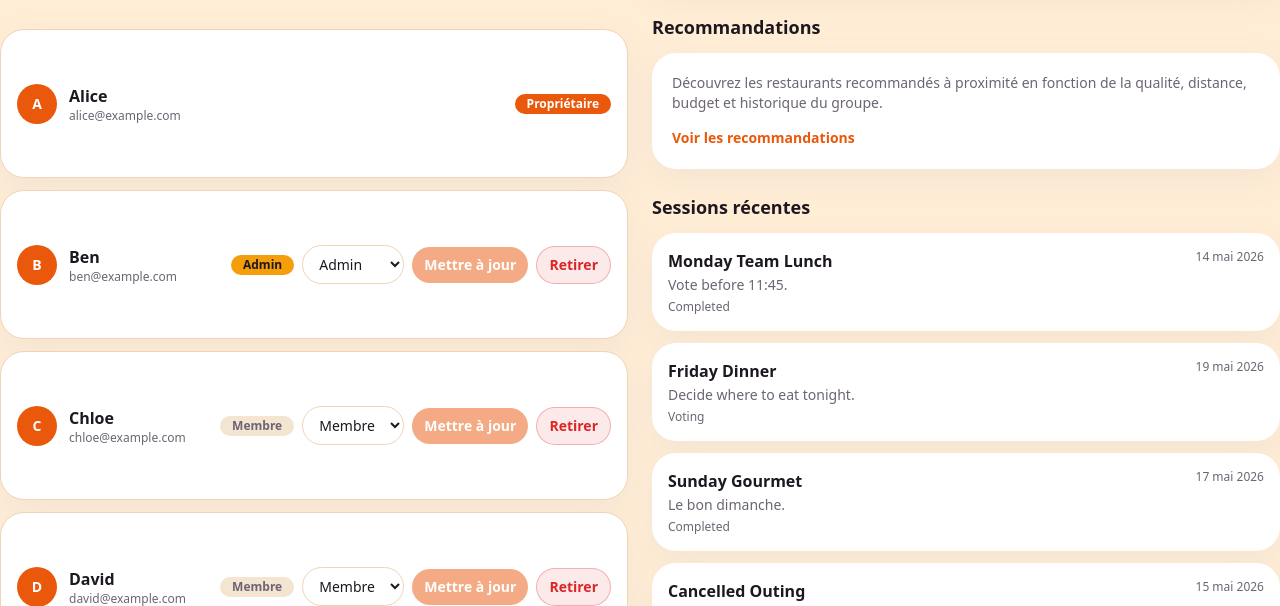
Scenario: GroupDetailPage › keeps a default MSW member role update visible after success
(page scrolled)
Expected: the text "Ben" is shown, x1=69 y1=246 x2=100 y2=268
Select "Membre" in the dropdown named "Rôle de Ben" next to "Admin" at (353, 264), box x1=302 y1=245 x2=404 y2=284
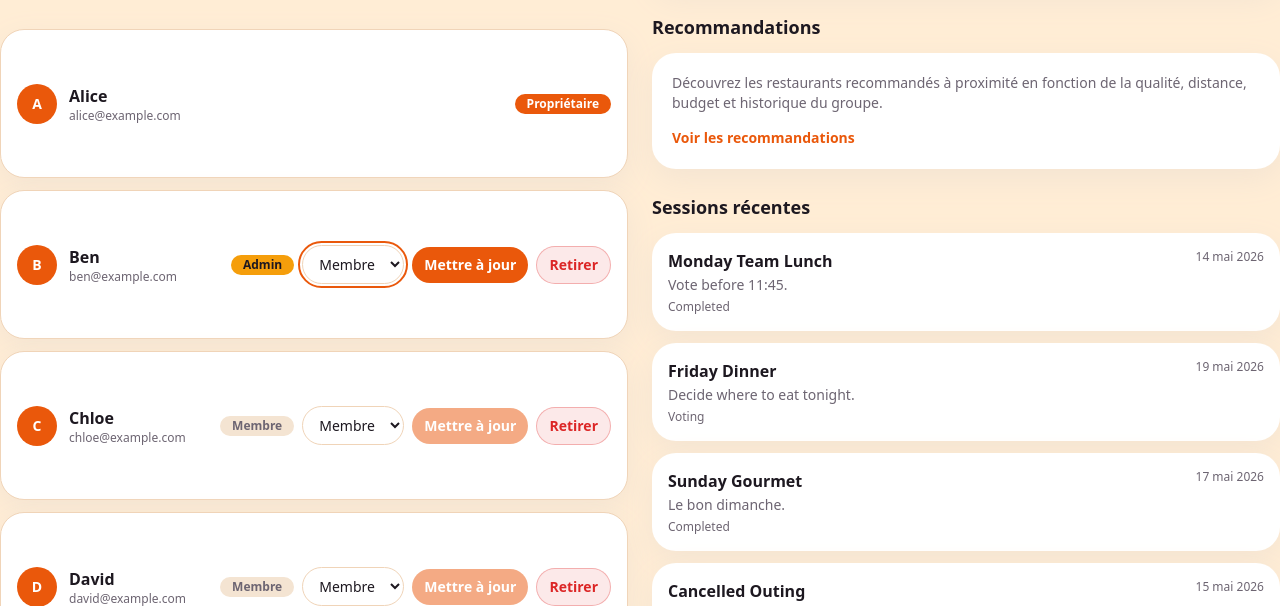
Click the button with aria-label "Mettre à jour le rôle de Ben" at (470, 264), box x1=412 y1=246 x2=528 y2=282
(page scrolled)
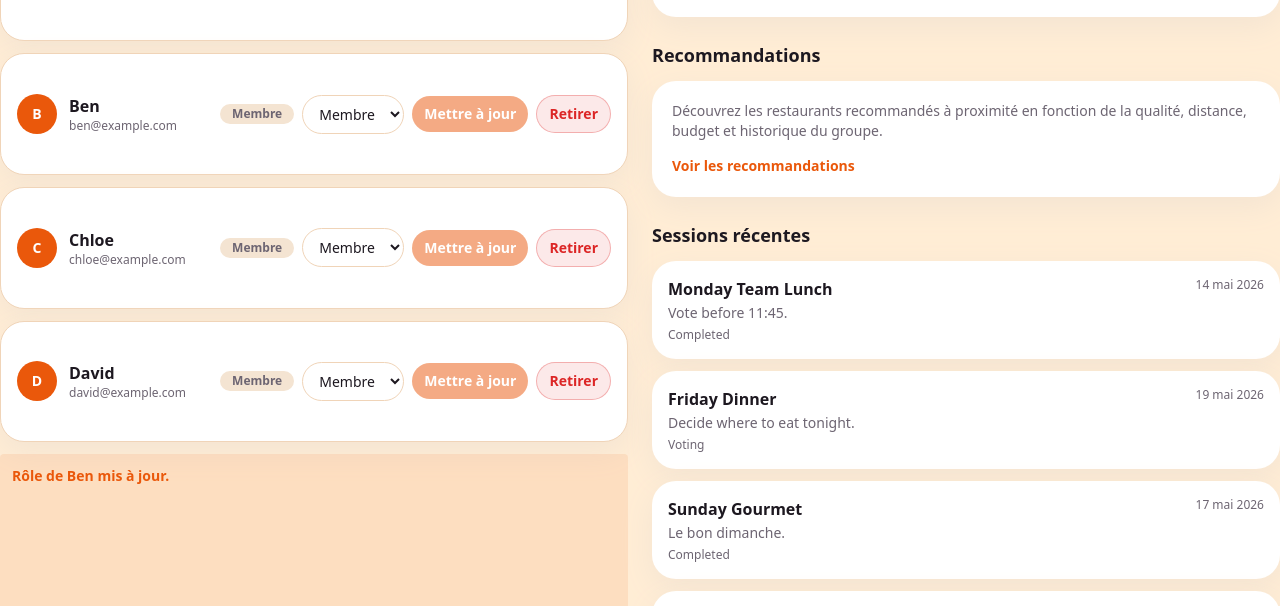
Expected: the text "Membre" next to "ben@example.com" is shown, x1=232 y1=105 x2=282 y2=122
